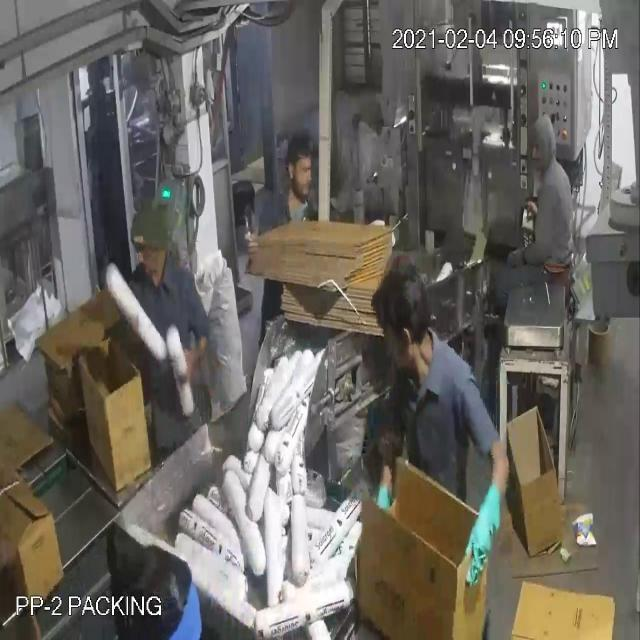No_Gloves: (54, 82, 487, 530)
